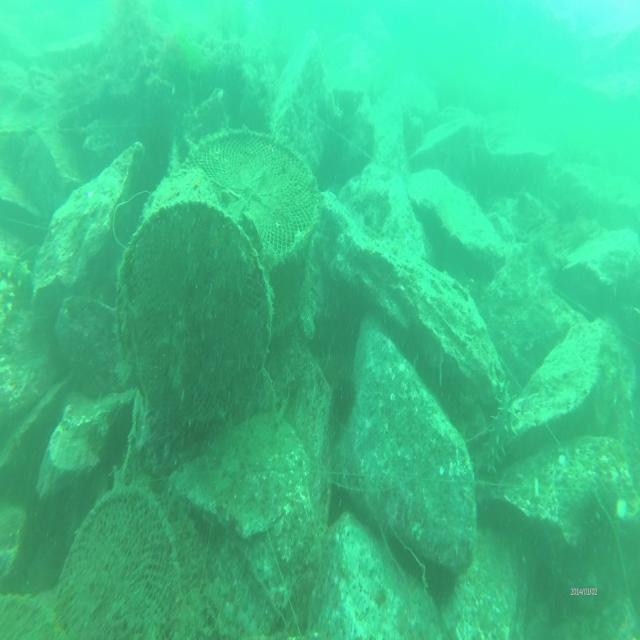echinus: (528, 230, 558, 277), (552, 194, 580, 233)
holothurian: (481, 391, 517, 475), (0, 246, 36, 292)
